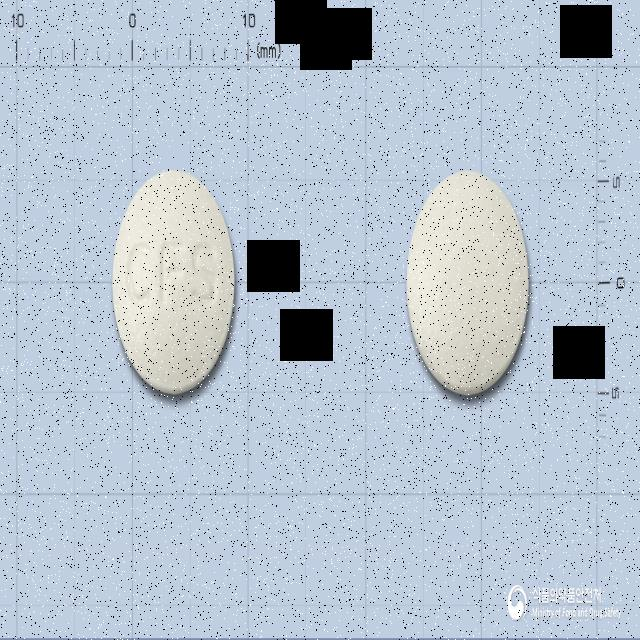Ciproxin: (111, 163, 240, 400)
